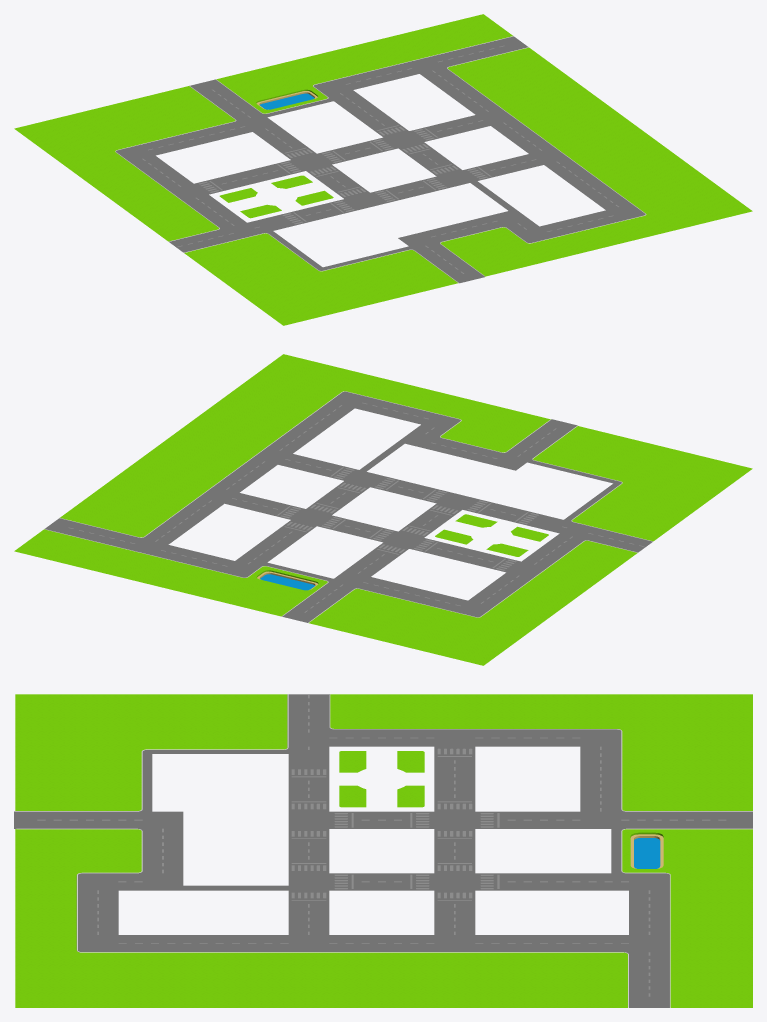
File: arena.fbx
3 views of the same model, one above another, from view 1: azimuth 30°, elevation 25°; view 2: azimuth 150°, elevation 25°; view 3: azimuth 270°, elevation 25° (orthographic). The views are drawn at different scales.
Parts seen in each view (by area): view 1: arena; view 2: arena; view 3: arena.
Part boxes in pixels (x1,y1,x2,y2): arena: (14,14,752,325); arena: (14,354,752,665); arena: (14,694,752,1007).
Size of the model in its own units: 29224 by 168 by 29099.
